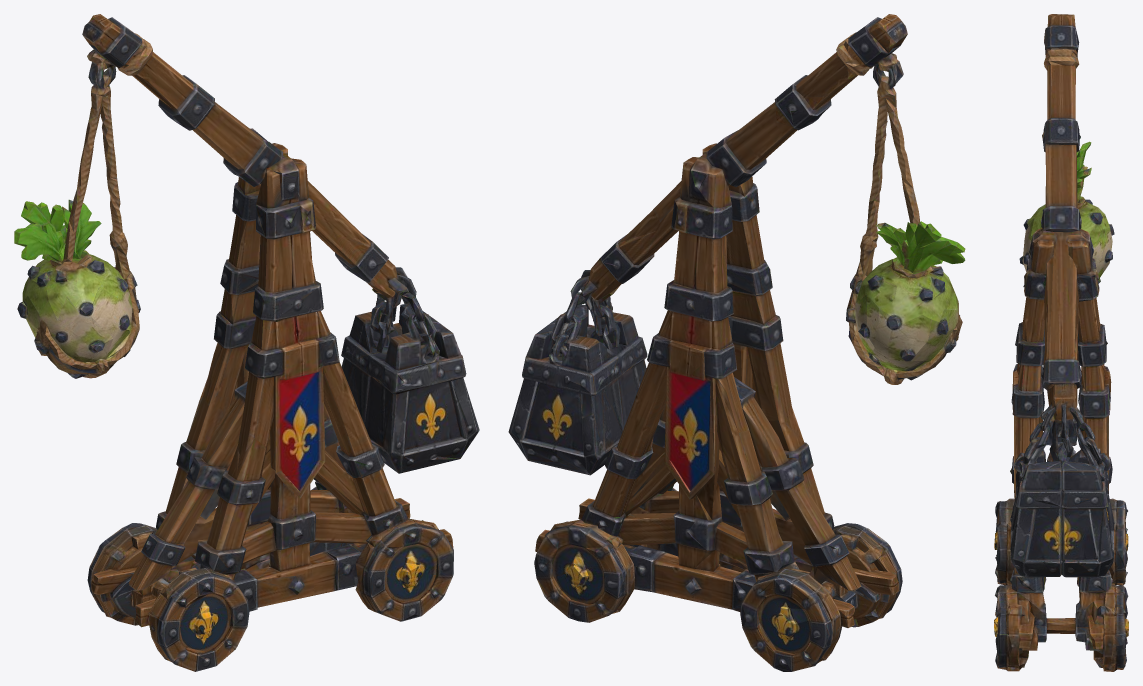
Rendered from trebuchet-2.glb.
The picture shows the model from 3 angles, left to right: view 1: azimuth 30°, elevation 25°; view 2: azimuth 150°, elevation 25°; view 3: azimuth 270°, elevation 25°; orthographic projection. The views are drawn at different scales.
Parts seen in each view (by area): view 1: output_unwrapped; view 2: output_unwrapped; view 3: output_unwrapped.
Boxes of the visible parts, box(x1,y1,x2,y2) form: output_unwrapped: box(14, 14, 479, 671); output_unwrapped: box(508, 14, 965, 671); output_unwrapped: box(994, 14, 1128, 671).
Bounding box in the file's own units: 1.34 × 1.9 × 0.4298.
Materials: 1 (1 with a texture image).
